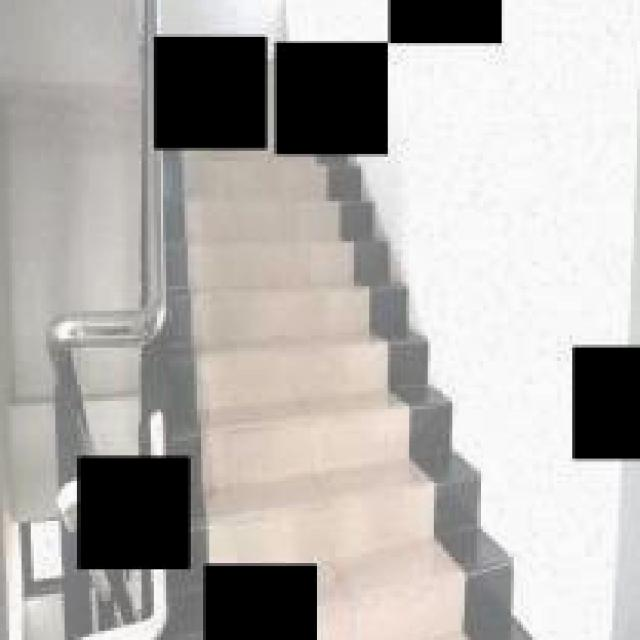upstair: (180, 161, 420, 444)
